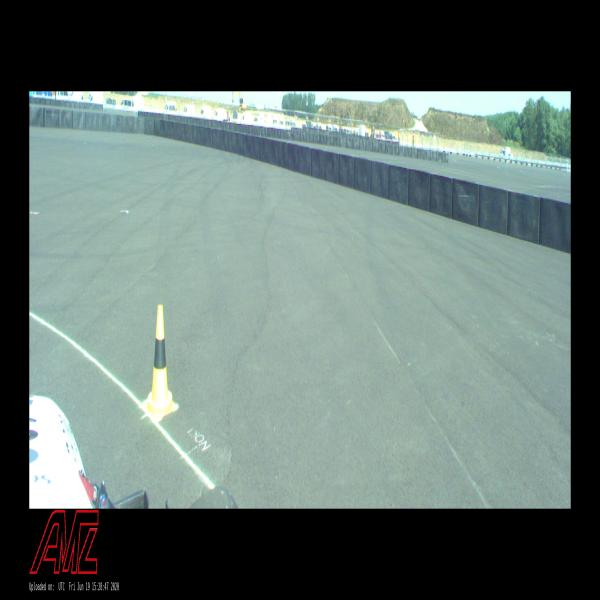yellow_cone: (143, 305, 176, 420)
